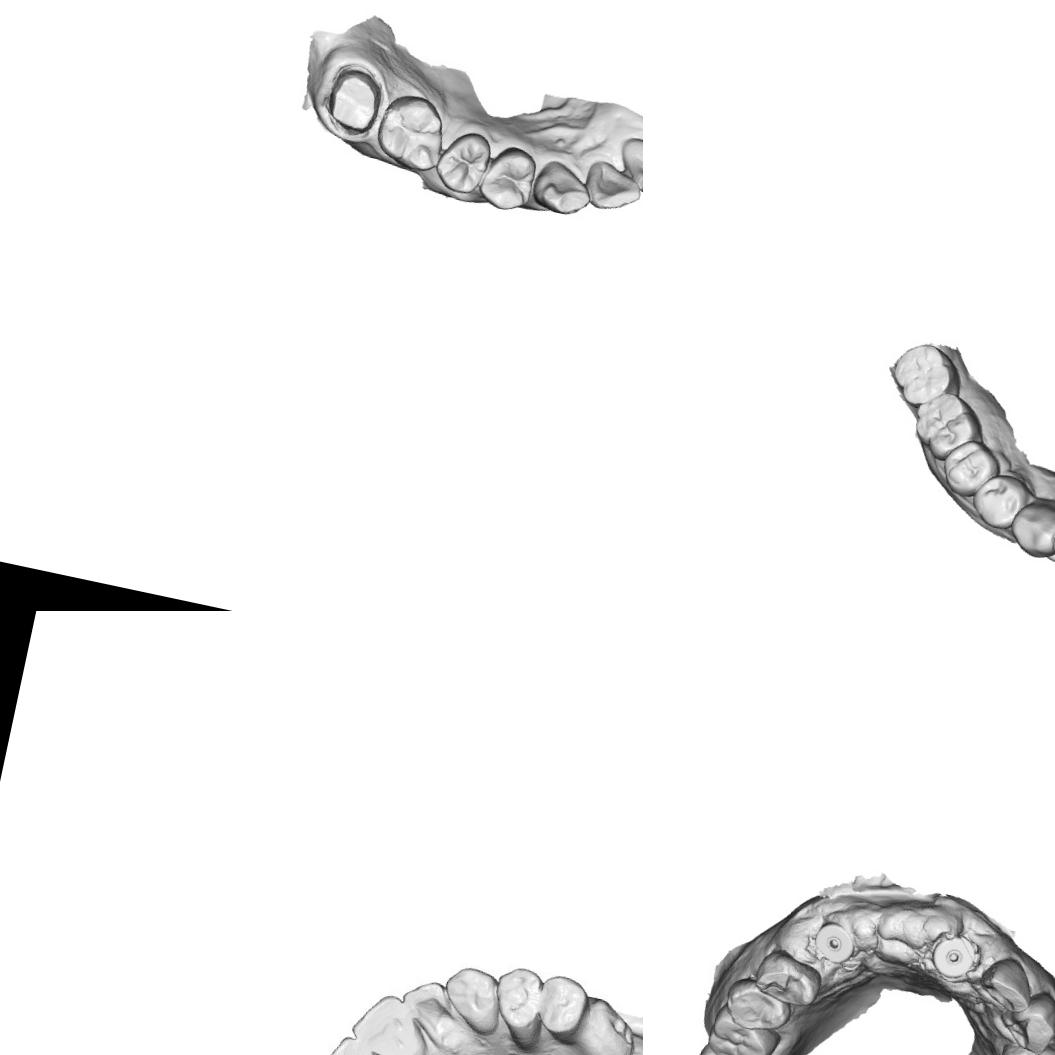canine: (438, 960, 510, 1042), (528, 156, 598, 220), (999, 985, 1055, 1055), (1005, 489, 1055, 563)
crown: (318, 60, 394, 141)
implant: (926, 929, 980, 982), (807, 918, 861, 969)
incisor: (347, 985, 428, 1055), (973, 950, 1041, 1018), (396, 978, 462, 1044), (577, 155, 643, 218), (611, 130, 643, 202), (314, 1035, 399, 1055)
molar: (368, 86, 453, 178), (903, 385, 992, 470), (884, 337, 969, 415), (697, 1005, 781, 1055)
premolar: (473, 139, 541, 217), (749, 944, 827, 1012), (430, 124, 496, 200), (722, 973, 798, 1038), (936, 432, 1004, 504), (965, 467, 1035, 536), (490, 964, 547, 1032), (534, 969, 591, 1036), (989, 1036, 1055, 1055)
